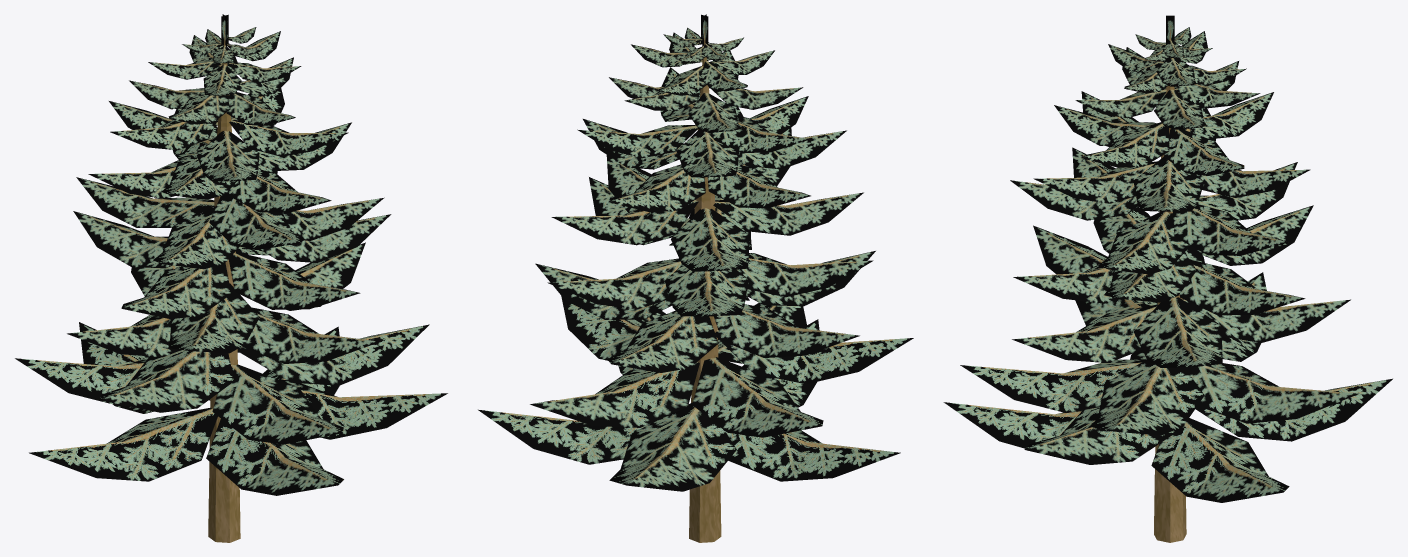
Rendered from model_Chuinka.fbx.
3 views of the same model, side by side, from view 1: azimuth 30°, elevation 25°; view 2: azimuth 150°, elevation 25°; view 3: azimuth 270°, elevation 25° (orthographic).
Visible parts, largest first — view 1: Circle; view 2: Circle; view 3: Circle.
Boxes of the visible parts, left/top/right/bottom form: Circle: left=15, top=14, right=447, bottom=542; Circle: left=478, top=14, right=913, bottom=542; Circle: left=943, top=15, right=1392, bottom=542.
Bounding box in the file's own units: 806 × 1026 × 768.
